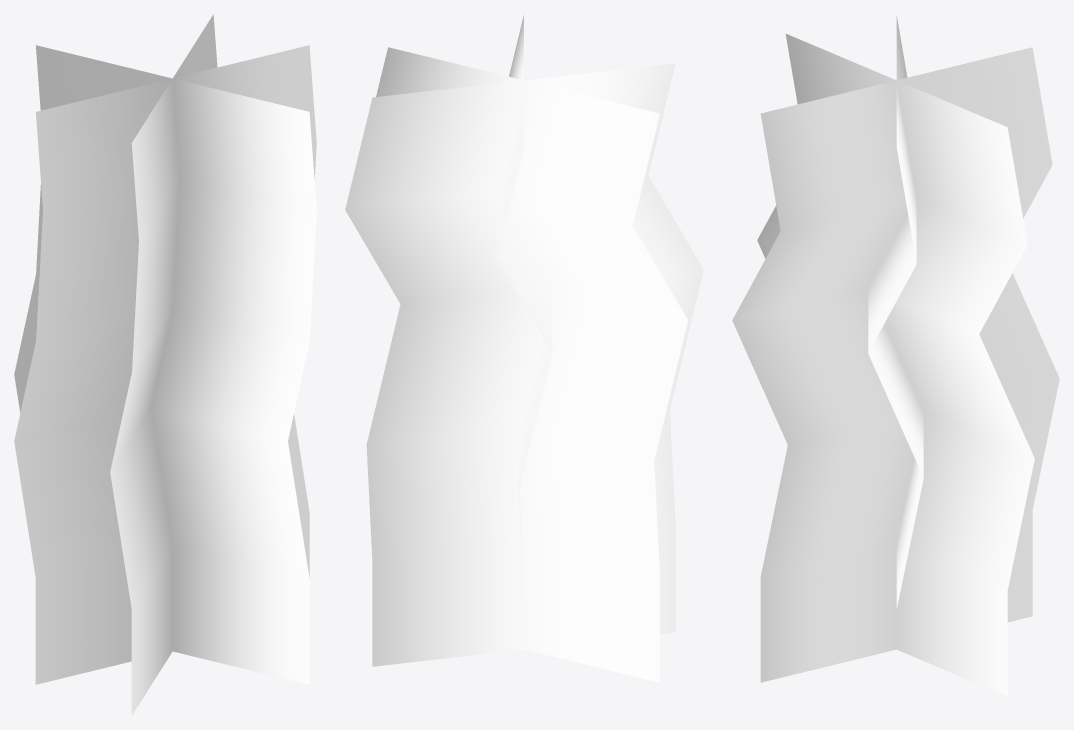
Rendered from SM_Env_Seaweed_01.glb.
3 renders of one model, left to right at view 1: azimuth 30°, elevation 25°; view 2: azimuth 150°, elevation 25°; view 3: azimuth 270°, elevation 25°, orthographic.
Parts seen in each view (by area): view 1: SM_Env_Seaweed_01_LOD0; view 2: SM_Env_Seaweed_01_LOD0; view 3: SM_Env_Seaweed_01_LOD0.
Part boxes in pixels (x1,y1,x2,y2): SM_Env_Seaweed_01_LOD0: (14, 14, 316, 715); SM_Env_Seaweed_01_LOD0: (345, 15, 703, 682); SM_Env_Seaweed_01_LOD0: (732, 15, 1059, 696).
Size of what is drawn, in the model's own units: 1.23 by 2.2 by 1.15.
Materials: 1 (1 with a texture image).
